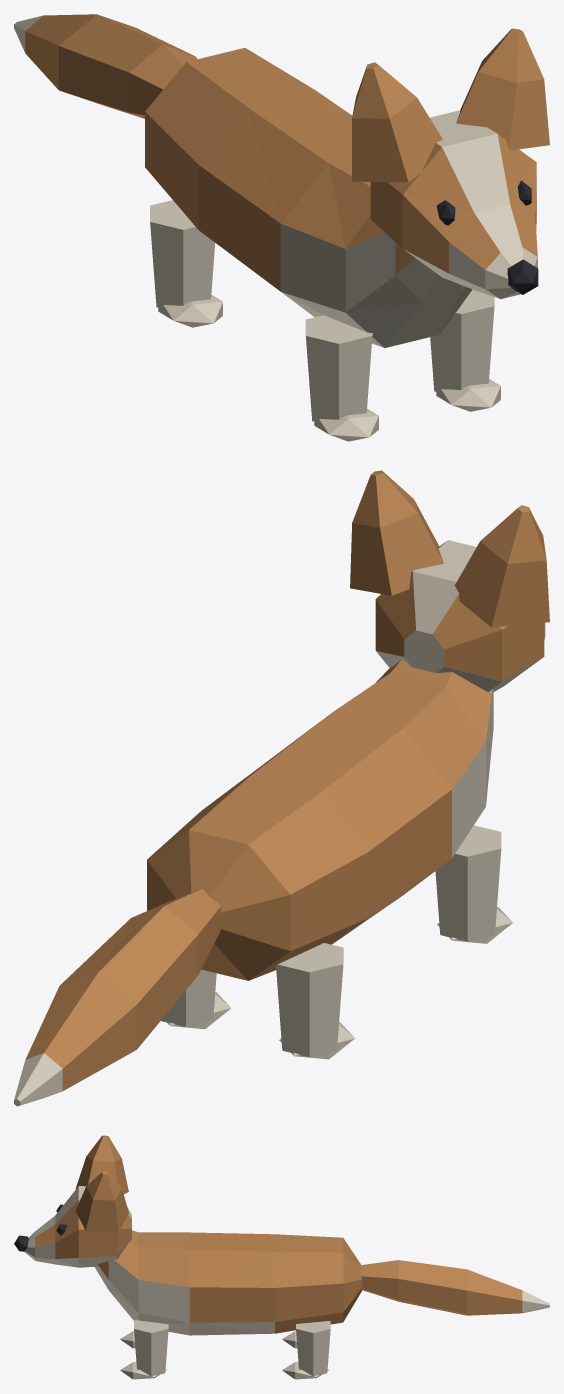
The model's file is Hrozna.fbx.
3 renders of one model, top to bottom at view 1: azimuth 30°, elevation 25°; view 2: azimuth 150°, elevation 25°; view 3: azimuth 270°, elevation 25°, orthographic. The views are drawn at different scales.
Visible parts, largest first — view 1: Hrozna_Body, Hrozna_Tail; view 2: Hrozna_Body, Hrozna_Tail; view 3: Hrozna_Body, Hrozna_Tail.
Part boxes in pixels (x1,y1,x2,y2): Hrozna_Body: [145, 28, 549, 441]; Hrozna_Tail: [14, 14, 197, 118]; Hrozna_Body: [147, 470, 549, 1059]; Hrozna_Tail: [14, 888, 221, 1106]; Hrozna_Body: [14, 1135, 362, 1379]; Hrozna_Tail: [360, 1260, 549, 1315].
Size of the model in its own units: 0.2671 by 1.26 by 0.5353.
